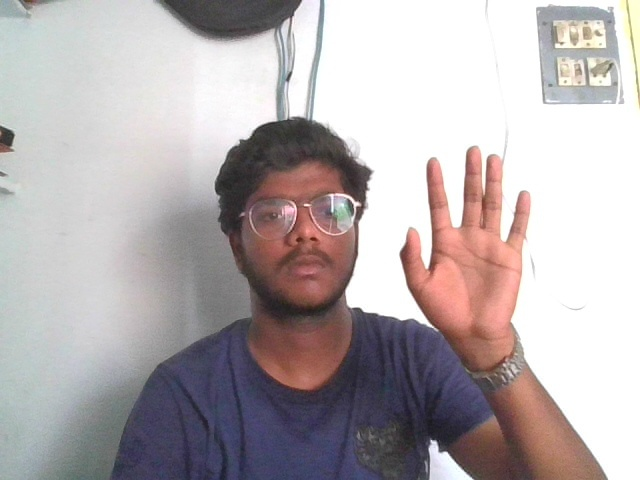Hello: (396, 146, 537, 337)
